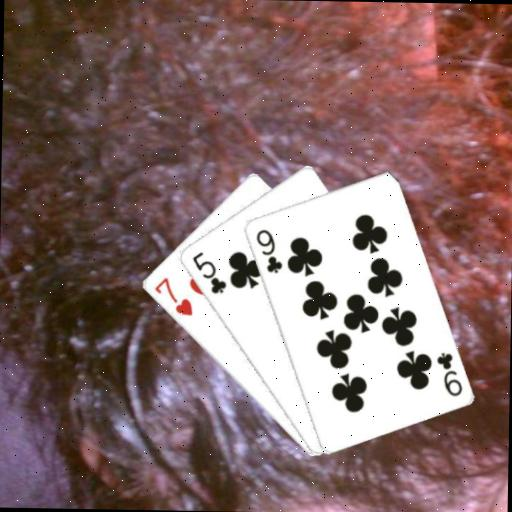5C: (188, 248, 229, 296)
7H: (151, 274, 195, 318)
9C: (252, 225, 284, 275), (432, 349, 464, 398)
